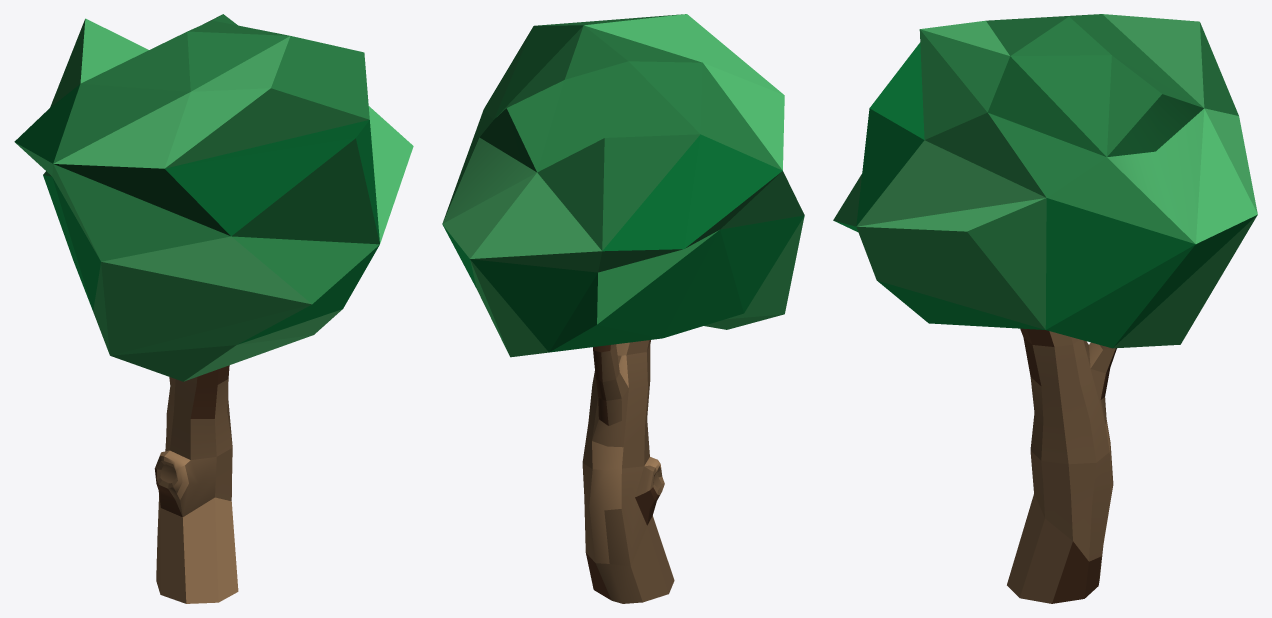
Rendered from tree.fbx.
3 renders of one model, left to right at view 1: azimuth 30°, elevation 25°; view 2: azimuth 150°, elevation 25°; view 3: azimuth 270°, elevation 25°, orthographic. The views are drawn at different scales.
Visible parts, largest first — view 1: tree_light; view 2: tree_light; view 3: tree_light.
Boxes of the visible parts, x1,y1,x2,y2 form: tree_light: (14,14,413,603); tree_light: (442,14,804,603); tree_light: (833,14,1257,603).
Size of the model in its own units: 249 by 403 by 273.
